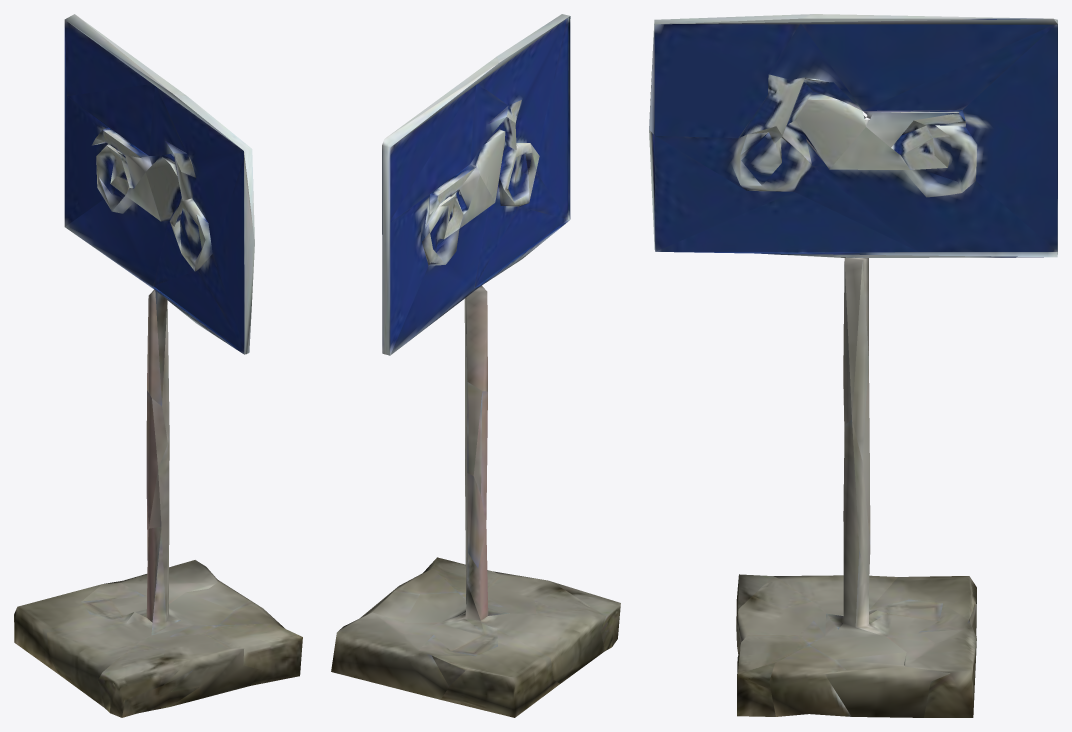
Rendered from rambu_motor_lod2.glb.
3 renders of one model, left to right at view 1: azimuth 30°, elevation 25°; view 2: azimuth 150°, elevation 25°; view 3: azimuth 270°, elevation 25°, orthographic. The views are drawn at different scales.
Parts seen in each view (by area): view 1: tripo_node_37799e14; view 2: tripo_node_37799e14; view 3: tripo_node_37799e14.
Part boxes in pixels (x1,y1,x2,y2): tripo_node_37799e14: (14,14,302,717); tripo_node_37799e14: (331,14,620,717); tripo_node_37799e14: (649,14,1057,717).
Bounding box in the file's own units: 33.46 × 99.99 × 56.81.
1 material, 1 textured.
